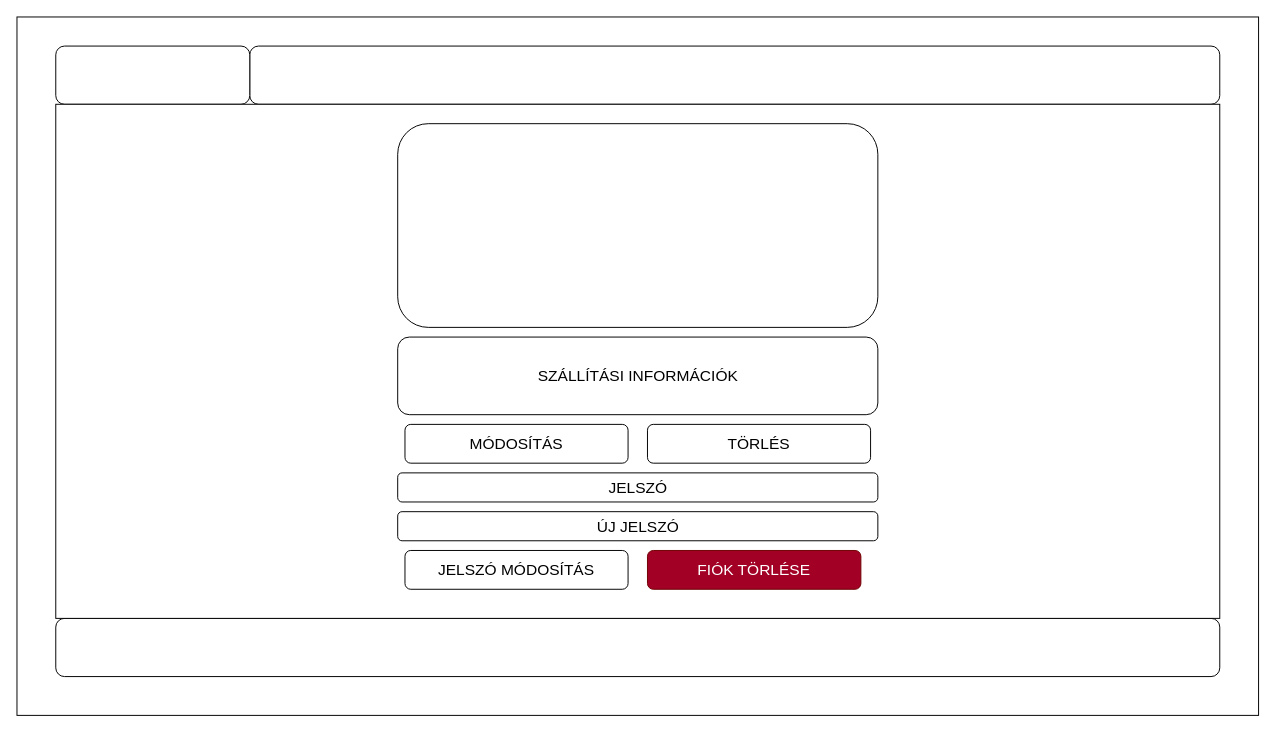
The diagram is 1276 pixels wide and 732 high, and some of its shapes have lost their labels. Each missing label, with the centre of its shape:
"LOGÓ ÉS CÉGNÉV" goes at (x=152, y=74).
"LÁBJEGYZET" goes at (x=637, y=647).
"MENÜSÁV" goes at (x=734, y=74).
"PROFIL INFORMÁCIÓK" goes at (x=637, y=225).
